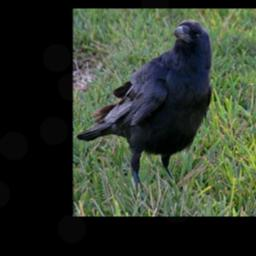Crow: (75, 18, 211, 196)
